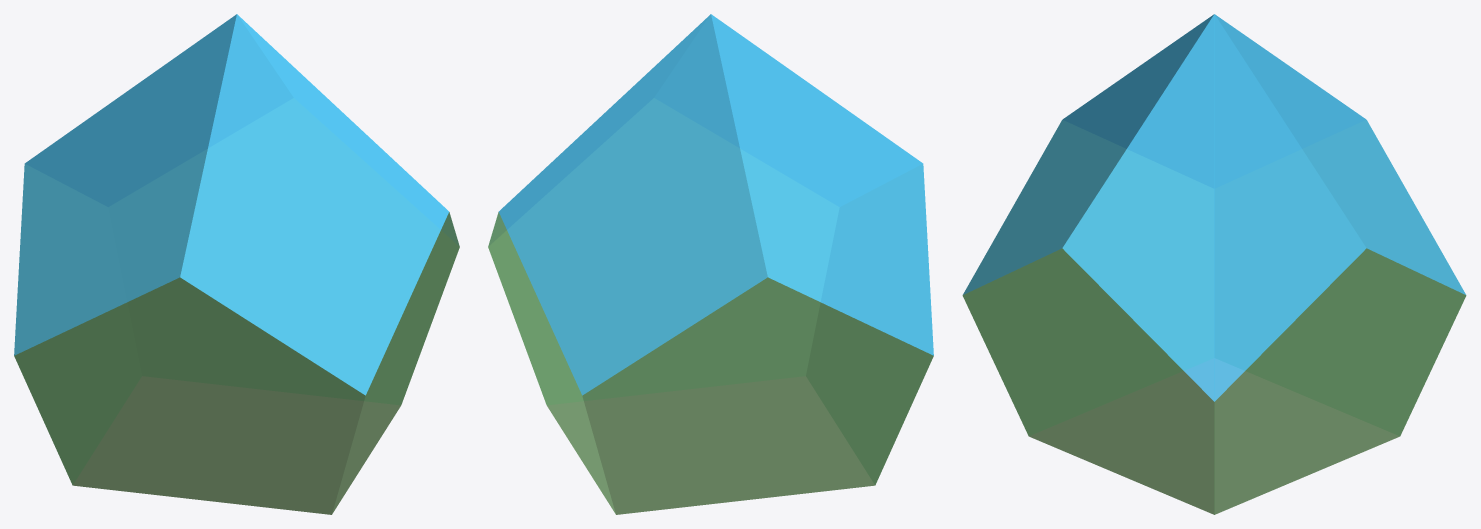
The model's file is pipa4p.obj.
The picture shows the model from 3 angles, left to right: view 1: azimuth 30°, elevation 25°; view 2: azimuth 150°, elevation 25°; view 3: azimuth 270°, elevation 25°; orthographic projection. The views are drawn at different scales.
Size of the model in its own units: 2.71 by 2.51 by 2.71.
